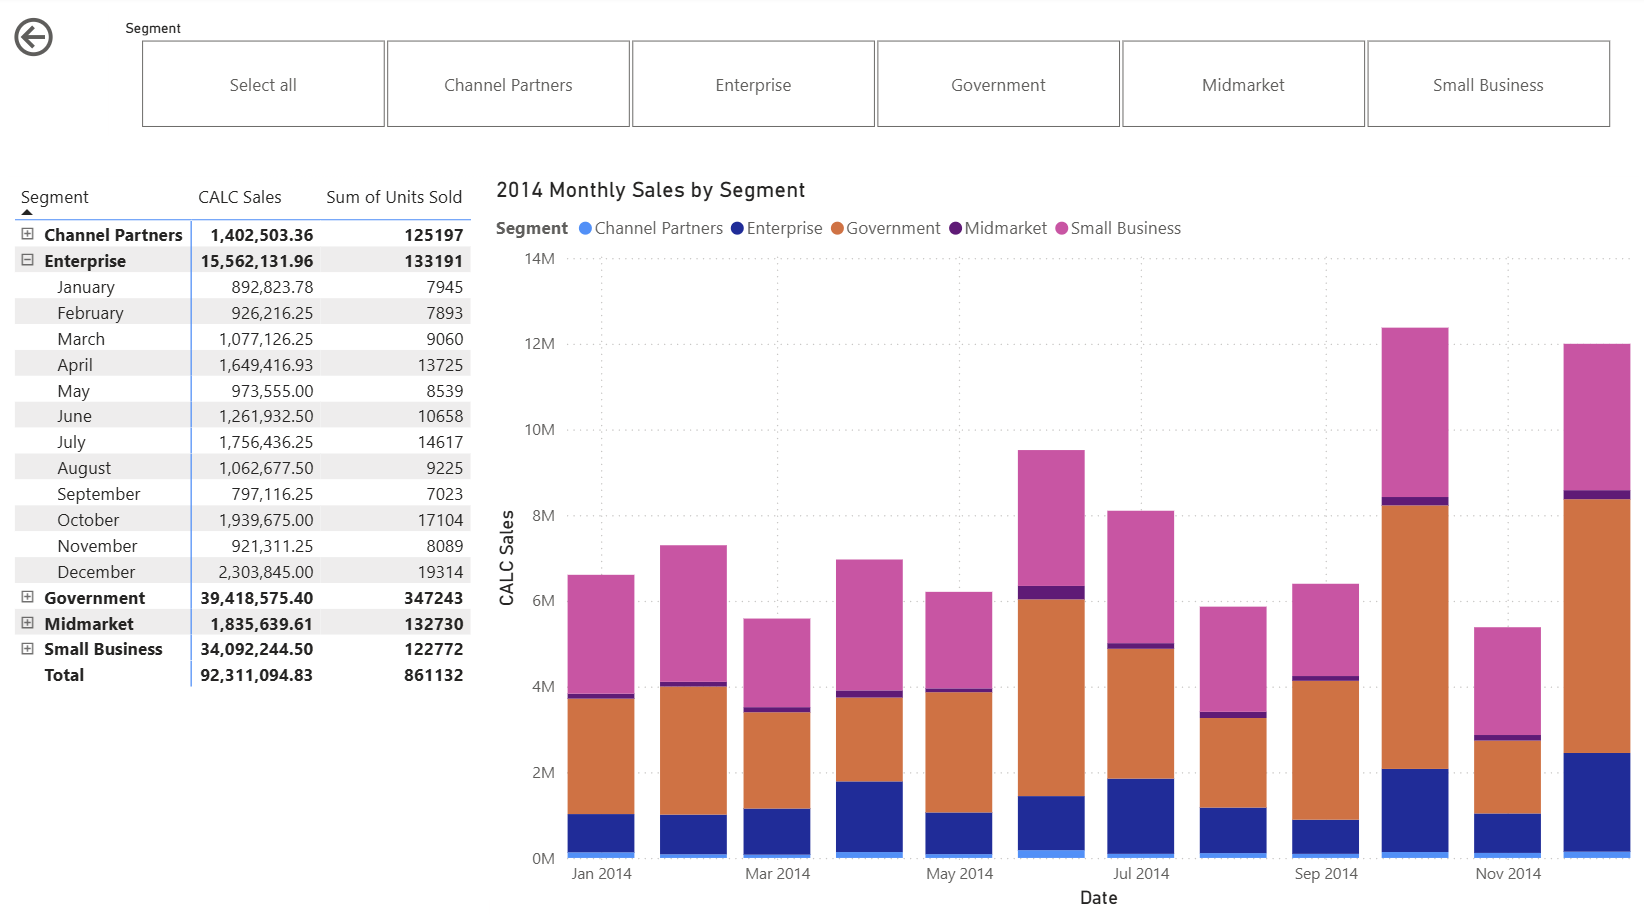

What the dashboard file says about the page in this screenshot:
{"tool":"powerbi","page":{"name":"2014 Sales by Segment","canvas":[1280,720],"ordinal":1},"visuals":[{"type":"columnChart","title":"2014 Monthly Sales by Segment","fields":{"Category":["Date.Date"],"Y":["Data Table.CALC Sales"],"Series":["Segment.Segment"]},"box":[381.8,139.9,888,569.1],"z":0},{"type":"pivotTable","fields":{"Rows":["Segment.Segment","Date.Month Name"],"Values":["Data Table.CALC Sales","Sum(Data Table.Units Sold)"]},"box":[9.7,140.1,372.5,285],"z":1000},{"type":"actionButton","box":[9.6,13.2,76.5,39.5],"z":2000},{"type":"slicer","fields":{"Values":["Segment.Segment"]},"box":[86.6,13.6,1183.7,95.3],"z":3000}]}

Visuals, with their boxes in screenshot pixels (x1, y1, x2, y2), scaled from the page's 1280x720 canvas onto the 1644x917 screenshot:
"2014 Monthly Sales by Segment" columnChart: [left=490, top=178, right=1631, bottom=903]
pivotTable - Segment.Segment x Date.Month Name: [left=12, top=178, right=491, bottom=541]
actionButton: [left=12, top=17, right=111, bottom=67]
slicer - Segment.Segment: [left=111, top=17, right=1632, bottom=139]
